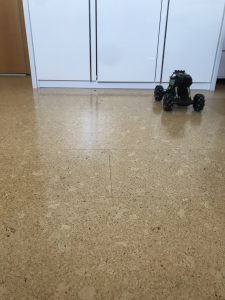remote control car: (153, 66, 206, 114)
